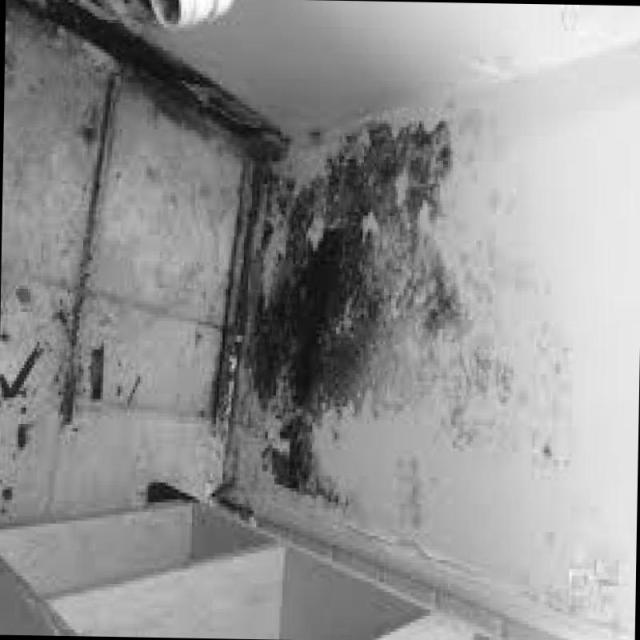stain marks: (216, 103, 514, 566)
